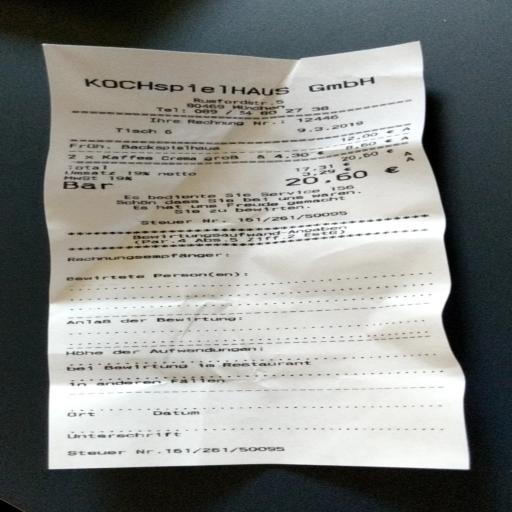paper: (10, 22, 512, 512)
